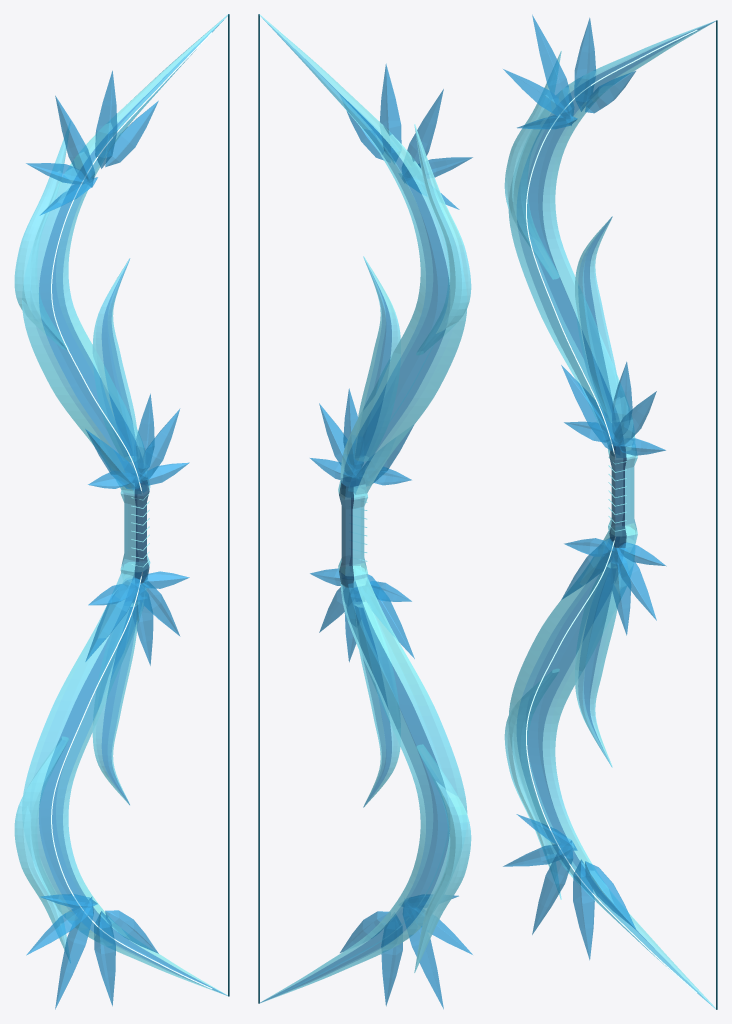
The model's file is ice_crystal_fantasy_bow.glb.
3 views of the same model, side by side, from view 1: azimuth 30°, elevation 25°; view 2: azimuth 150°, elevation 25°; view 3: azimuth 330°, elevation 25° (orthographic).
Visible parts, largest first — view 1: IceBow_UpperLimb, IceBow_LowerLimb, IceBow_CrystalOrnament_Center, IceBow_CrystalOrnament_Bottom, IceBow_CrystalOrnament_Top, IceBow_Upper_CrescentLayer, IceBow_Lower_CrescentLayer, IceBow_Lower_OuterBlade, IceBow_Upper_OuterBlade, IceBow_Handle, IceBow_String, IceBow_Upper_LuminousVein (+1 smaller); view 2: IceBow_UpperLimb, IceBow_LowerLimb, IceBow_CrystalOrnament_Center, IceBow_Upper_CrescentLayer, IceBow_Lower_CrescentLayer, IceBow_CrystalOrnament_Top, IceBow_CrystalOrnament_Bottom, IceBow_Lower_OuterBlade, IceBow_Upper_OuterBlade, IceBow_Handle, IceBow_String; view 3: IceBow_UpperLimb, IceBow_LowerLimb, IceBow_CrystalOrnament_Center, IceBow_CrystalOrnament_Bottom, IceBow_CrystalOrnament_Top, IceBow_Upper_CrescentLayer, IceBow_Lower_CrescentLayer, IceBow_Upper_OuterBlade, IceBow_Lower_OuterBlade, IceBow_Handle, IceBow_String, IceBow_Upper_LuminousVein (+1 smaller).
Boxes of the visible parts, x1,y1,x2,y2 form: IceBow_UpperLimb: (22, 14, 228, 493); IceBow_LowerLimb: (22, 562, 227, 995); IceBow_CrystalOrnament_Center: (85, 393, 189, 665); IceBow_CrystalOrnament_Bottom: (26, 894, 158, 1009); IceBow_CrystalOrnament_Top: (26, 70, 158, 215); IceBow_Upper_CrescentLayer: (92, 258, 139, 461); IceBow_Lower_CrescentLayer: (92, 602, 139, 805); IceBow_Lower_OuterBlade: (14, 736, 70, 962); IceBow_Upper_OuterBlade: (14, 121, 70, 350); IceBow_Handle: (120, 480, 150, 583); IceBow_String: (228, 14, 229, 996); IceBow_Upper_LuminousVein: (51, 32, 211, 493); IceBow_UpperLimb: (259, 14, 466, 497); IceBow_LowerLimb: (259, 566, 467, 1003); IceBow_CrystalOrnament_Center: (310, 388, 414, 662); IceBow_Upper_CrescentLayer: (354, 256, 400, 461); IceBow_Lower_CrescentLayer: (354, 602, 400, 807); IceBow_CrystalOrnament_Top: (345, 63, 472, 209); IceBow_CrystalOrnament_Bottom: (340, 895, 472, 1009); IceBow_Lower_OuterBlade: (414, 744, 471, 972); IceBow_Upper_OuterBlade: (414, 124, 471, 355); IceBow_Handle: (338, 477, 367, 587); IceBow_String: (258, 14, 259, 1003); IceBow_UpperLimb: (508, 20, 715, 457); IceBow_LowerLimb: (508, 526, 715, 1008); IceBow_CrystalOrnament_Center: (561, 361, 666, 635); IceBow_CrystalOrnament_Bottom: (503, 814, 636, 960); IceBow_CrystalOrnament_Top: (503, 14, 635, 129); IceBow_Upper_CrescentLayer: (575, 216, 620, 421); IceBow_Lower_CrescentLayer: (575, 563, 620, 767); IceBow_Upper_OuterBlade: (504, 51, 561, 279); IceBow_Lower_OuterBlade: (504, 668, 561, 899); IceBow_Handle: (608, 439, 637, 547); IceBow_String: (716, 20, 717, 1009); IceBow_Upper_LuminousVein: (526, 29, 697, 457).
Size of the model in its own units: 0.3996 by 1.76 by 0.0596.
